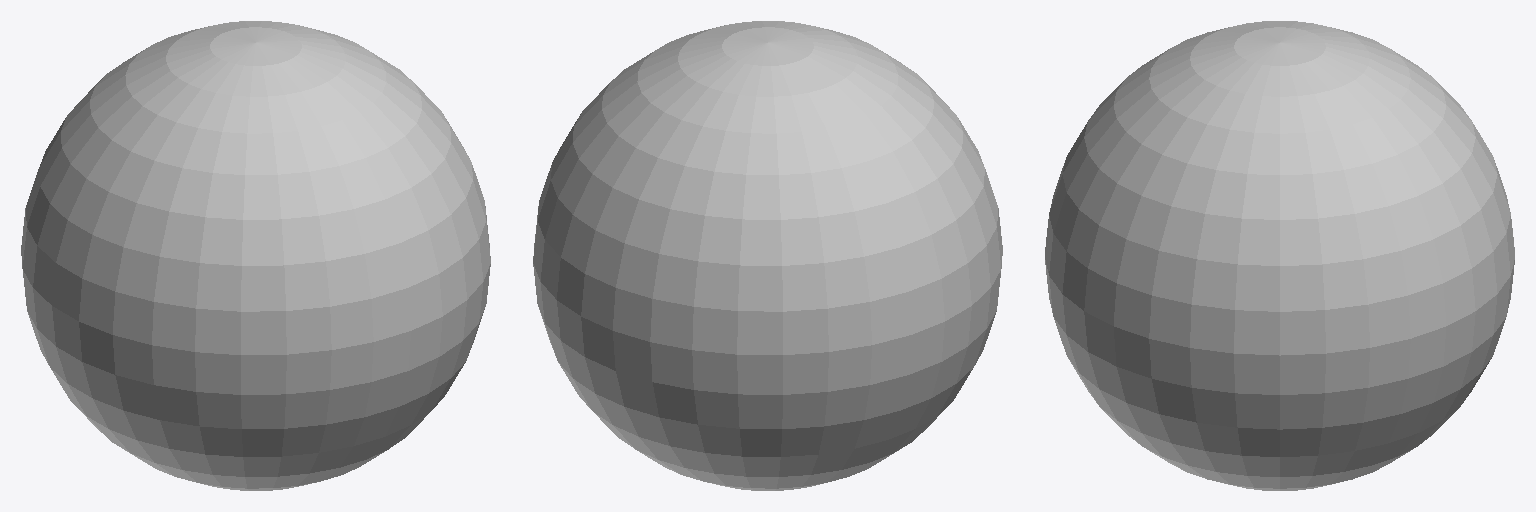
The model's file is planet.obj.
3 views of the same model, side by side, from view 1: azimuth 30°, elevation 25°; view 2: azimuth 150°, elevation 25°; view 3: azimuth 270°, elevation 25° (orthographic).
Parts seen in each view (by area): view 1: Sphere; view 2: Sphere; view 3: Sphere.
Boxes of the visible parts, x1,y1,x2,y2 form: Sphere: [21, 21, 490, 490]; Sphere: [533, 21, 1002, 490]; Sphere: [1045, 21, 1514, 490].
Bounding box in the file's own units: 1.76 × 1.76 × 1.76.